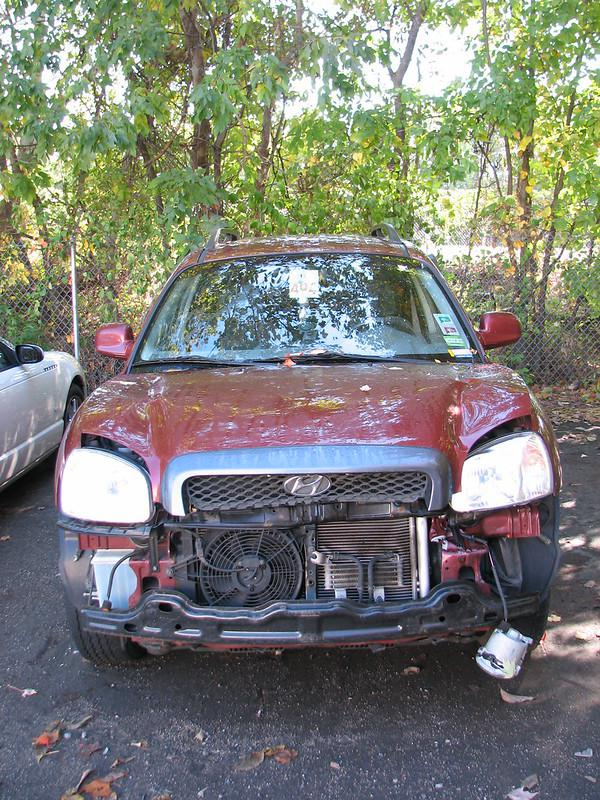bonnet-dent: (79, 356, 556, 472)
front-bumper-dent: (70, 482, 557, 649)
